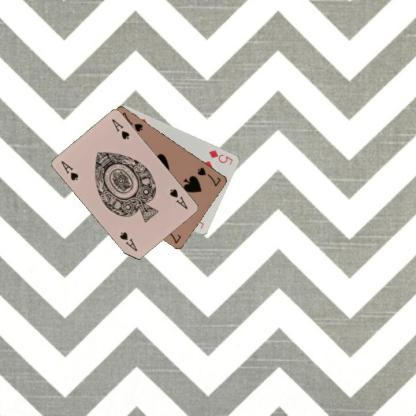5d: (206, 148, 234, 166)
7s: (195, 164, 222, 188)
As: (167, 186, 190, 210), (59, 158, 80, 182)
